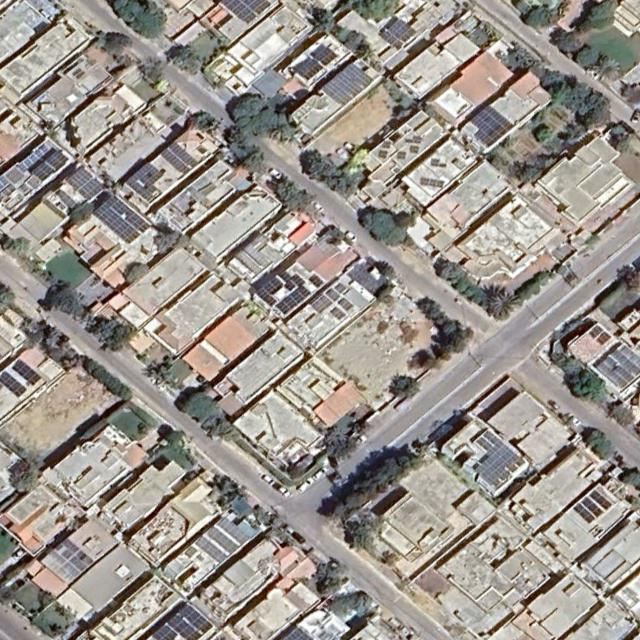solar panel: (461, 429, 527, 493), (253, 245, 314, 305), (92, 191, 152, 248), (320, 57, 375, 109), (463, 100, 516, 151), (126, 160, 170, 204), (596, 354, 636, 392), (29, 147, 70, 184), (41, 548, 82, 583), (18, 139, 56, 174), (193, 534, 231, 567), (381, 17, 416, 52), (221, 0, 272, 24), (276, 283, 312, 316), (292, 53, 325, 85), (216, 515, 250, 546), (168, 612, 205, 640), (180, 605, 214, 635), (611, 344, 640, 378), (65, 164, 96, 194), (158, 146, 189, 176), (207, 527, 238, 555), (11, 360, 42, 387), (0, 368, 27, 399), (77, 175, 107, 202), (167, 141, 197, 168), (310, 41, 337, 68), (69, 548, 94, 573), (580, 495, 605, 518), (589, 489, 613, 512), (572, 502, 596, 524), (54, 188, 77, 209), (152, 622, 178, 640), (5, 165, 26, 185), (311, 295, 332, 314), (330, 304, 348, 322), (63, 538, 81, 555), (288, 628, 315, 639), (595, 330, 612, 347), (587, 322, 604, 339), (334, 282, 352, 298), (337, 296, 354, 312), (308, 273, 324, 288), (290, 271, 305, 287), (420, 178, 446, 187), (183, 544, 198, 559), (326, 289, 340, 302), (431, 158, 447, 167), (405, 136, 424, 143), (409, 145, 420, 153), (397, 152, 407, 160), (378, 150, 387, 158), (382, 143, 392, 147)
